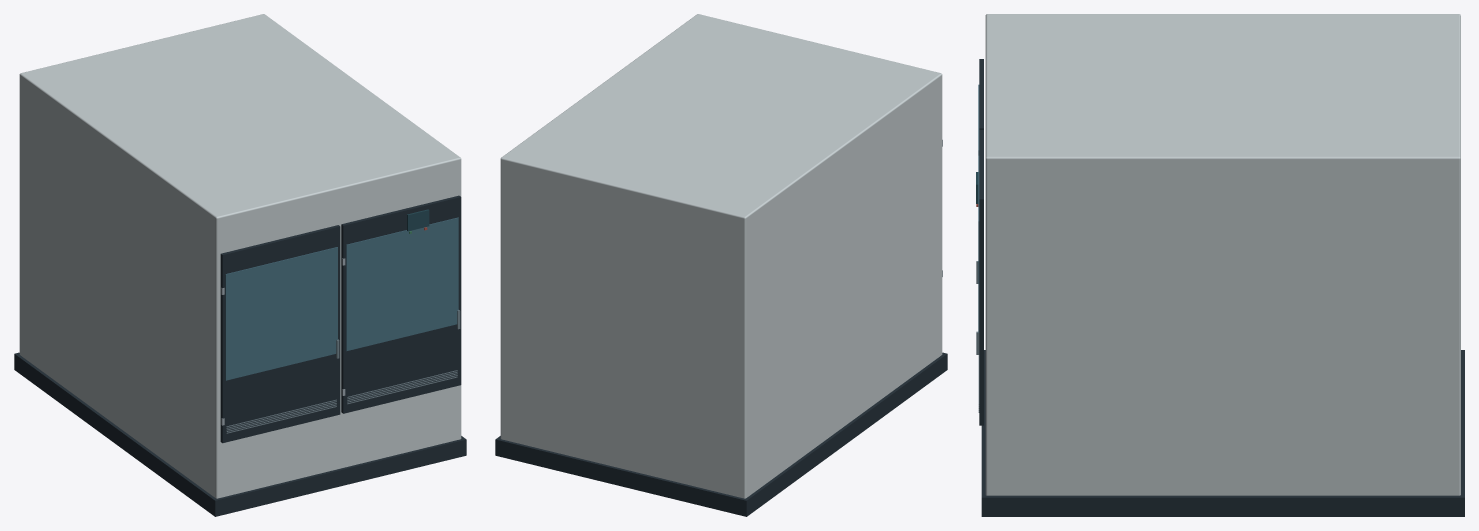
The model's file is discrete-spray.glb.
3 renders of one model, left to right at view 1: azimuth 30°, elevation 25°; view 2: azimuth 150°, elevation 25°; view 3: azimuth 270°, elevation 25°, orthographic. The views are drawn at different scales.
Size of the model in its own units: 2.6 by 2.94 by 3.64.
